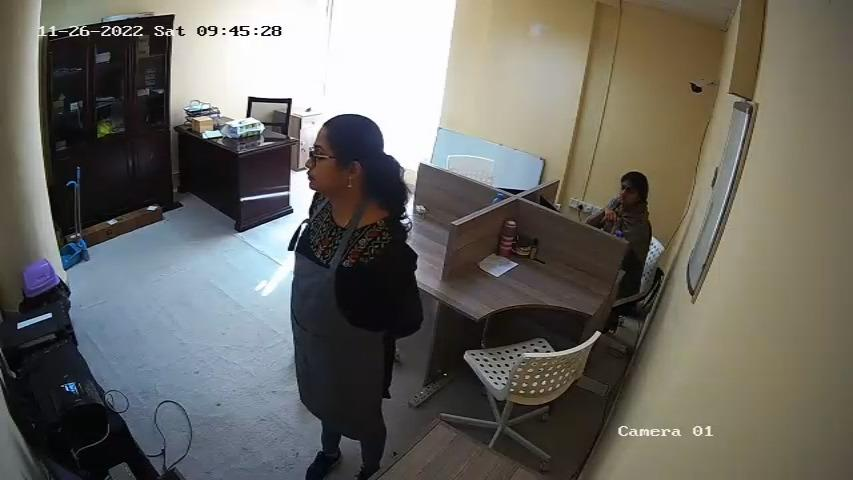apron: (292, 206, 392, 395)
